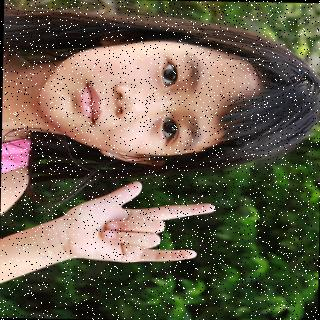I Love You: (57, 178, 229, 270)
